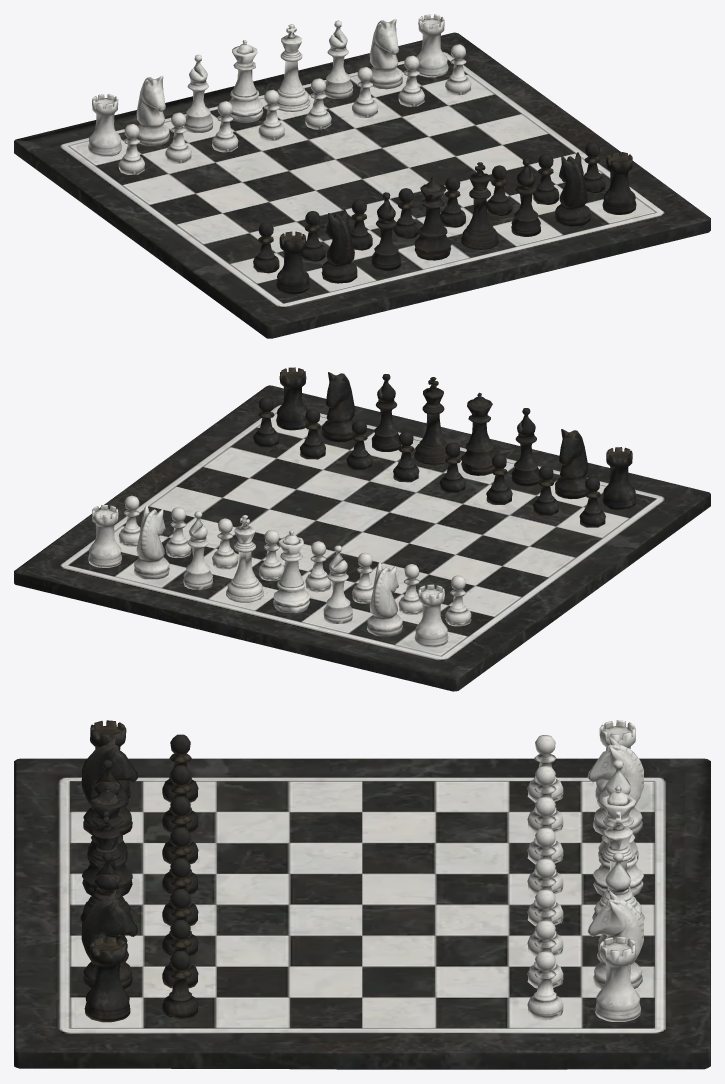
The model's file is chess-set.glb.
3 views of the same model, one above another, from view 1: azimuth 30°, elevation 25°; view 2: azimuth 150°, elevation 25°; view 3: azimuth 270°, elevation 25° (orthographic). The views are drawn at different scales.
Visible parts, largest first — view 1: board, piece_queen_black, piece_knight_black_01, piece_knight_black_02, piece_queen_white, piece_knight_white_01, piece_knight_white_02, piece_king_black, piece_king_white, piece_rook_black_02, piece_rook_black_01, piece_rook_white_02 (+21 smaller); view 2: board, piece_queen_white, piece_knight_white_01, piece_knight_white_02, piece_queen_black, piece_king_white, piece_knight_black_02, piece_knight_black_01, piece_king_black, piece_rook_white_02, piece_rook_black_01, piece_rook_white_01 (+21 smaller); view 3: board, piece_rook_black_02, piece_rook_white_01, piece_knight_black_02, piece_knight_white_01, piece_knight_black_01, piece_knight_white_02, piece_queen_black, piece_queen_white, piece_pawn_black_08, piece_pawn_white_01, piece_king_black (+21 smaller).
Boxes of the visible parts, x1,y1,x2,y2 form: board: [14, 32, 710, 338]; piece_queen_black: [414, 177, 451, 260]; piece_knight_black_01: [321, 209, 357, 283]; piece_knight_black_02: [554, 152, 590, 226]; piece_queen_white: [229, 40, 263, 122]; piece_knight_white_01: [369, 19, 402, 89]; piece_knight_white_02: [136, 75, 169, 145]; piece_king_black: [461, 162, 498, 249]; piece_king_white: [276, 24, 310, 111]; piece_rook_black_02: [602, 152, 636, 214]; piece_rook_black_01: [276, 231, 309, 294]; piece_rook_white_02: [88, 94, 121, 156]; board: [14, 385, 710, 691]; piece_queen_white: [273, 530, 310, 613]; piece_knight_white_01: [134, 505, 169, 579]; piece_knight_white_02: [367, 562, 402, 636]; piece_queen_black: [461, 392, 495, 475]; piece_king_white: [226, 515, 263, 602]; piece_knight_black_02: [322, 372, 354, 442]; piece_knight_black_01: [555, 429, 587, 499]; piece_king_black: [414, 377, 447, 464]; piece_rook_white_02: [414, 584, 448, 647]; piece_rook_black_01: [602, 447, 636, 509]; piece_rook_white_01: [88, 505, 121, 567]; board: [14, 758, 710, 1069]; piece_rook_black_02: [84, 936, 130, 1022]; piece_rook_white_01: [595, 936, 640, 1021]; piece_knight_black_02: [81, 891, 137, 989]; piece_knight_white_01: [587, 891, 643, 988]; piece_knight_black_01: [81, 736, 137, 834]; piece_knight_white_02: [587, 736, 643, 834]; piece_queen_black: [82, 786, 132, 896]; piece_queen_white: [593, 785, 643, 895]; piece_pawn_black_08: [162, 950, 198, 1020]; piece_pawn_white_01: [527, 951, 563, 1020]; piece_king_black: [80, 811, 132, 922].
Bounding box in the file's own units: 0.5526 × 0.112 × 0.5519.
Materials: 3 (3 with a texture image).
